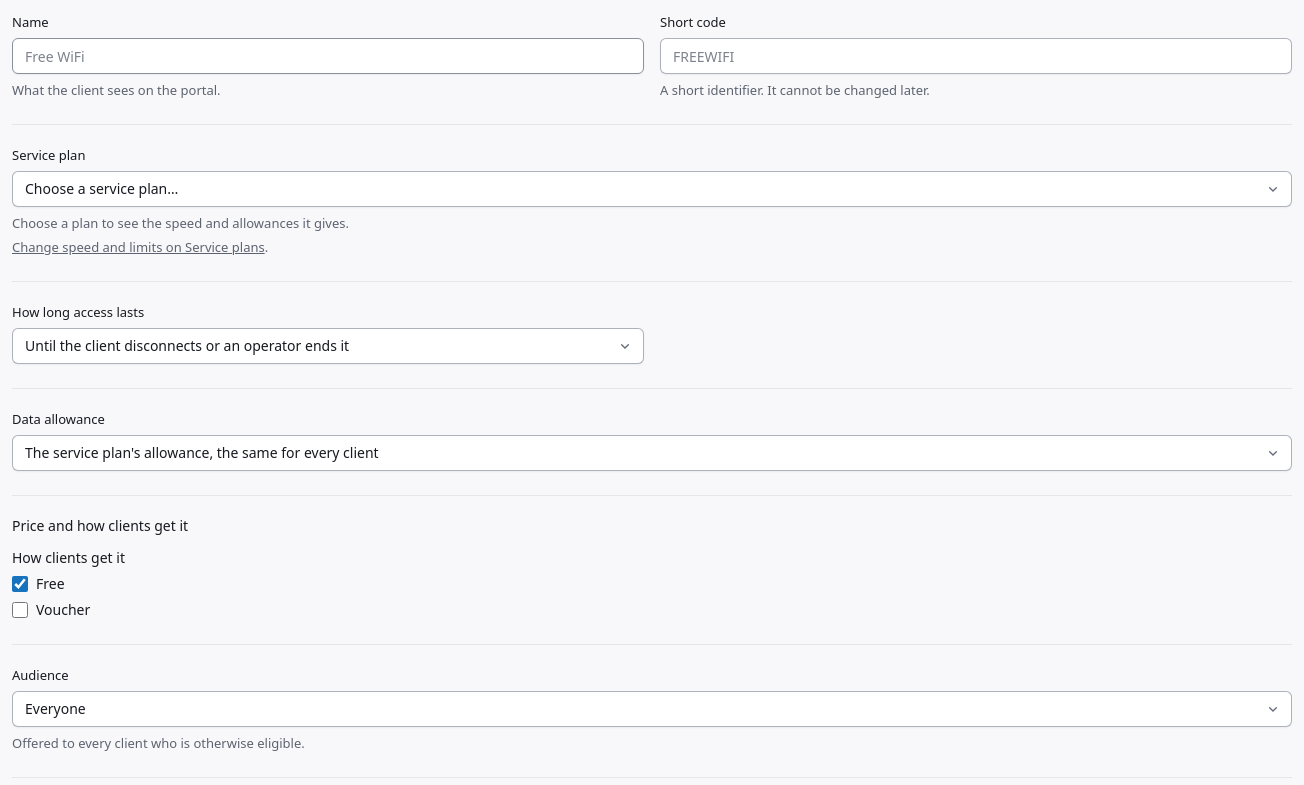
Test: the data-allowance precedence notice › follows the selected service plan immediately
Select "Five GB" in the dropdown with test id "service-plan": (652,189) [12,171,1292,207]
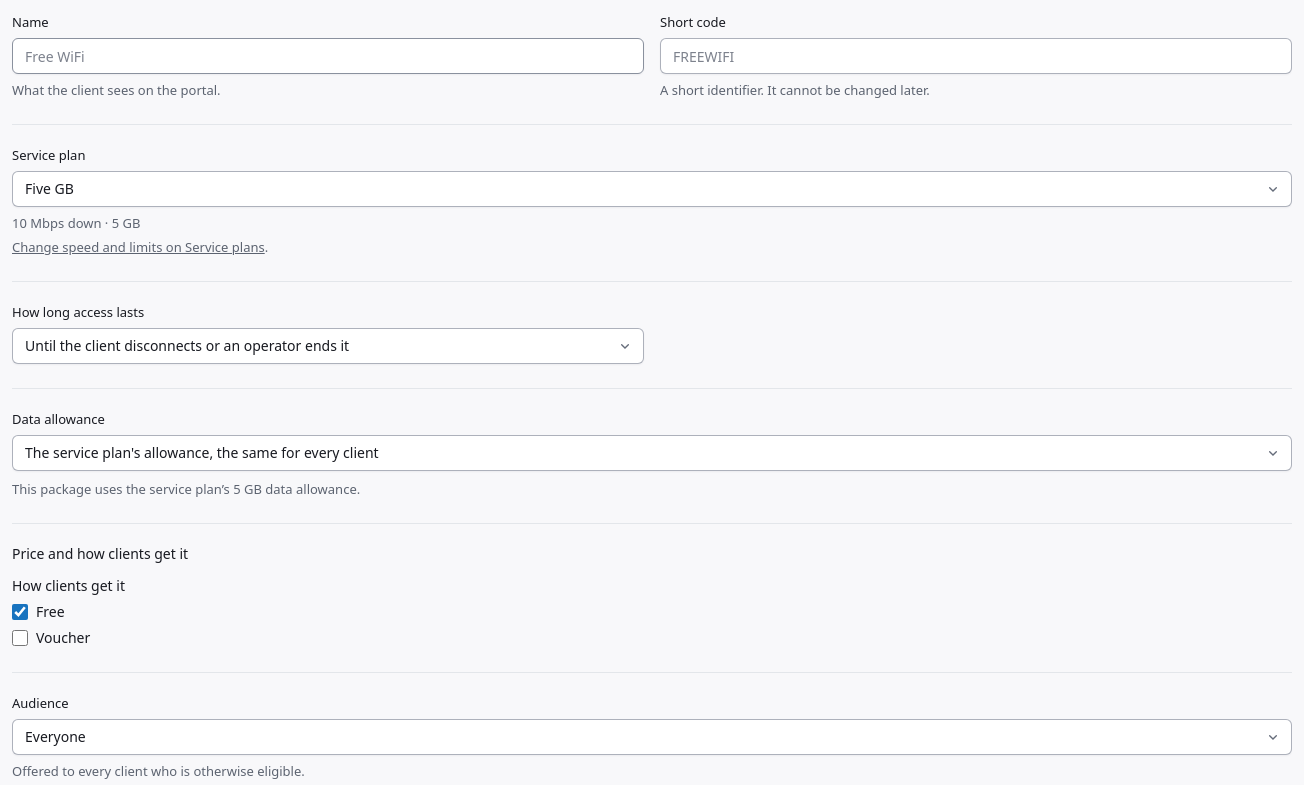
Select "An allowance per night of the stay" in the dropdown with test id "allocation-mode": (652,453) [12,435,1292,471]
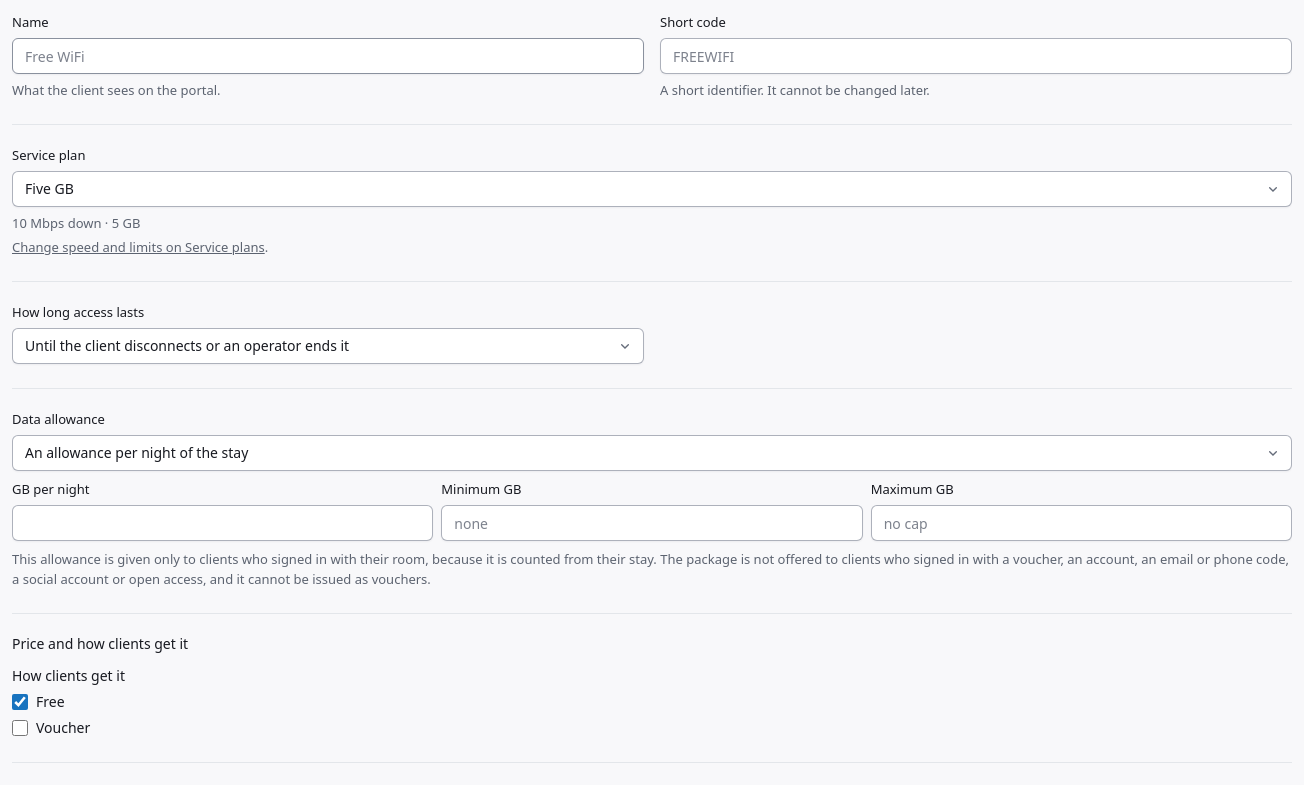
In the number field with test id "gb-per-night": (223,523) [12,505,433,541], type "1"
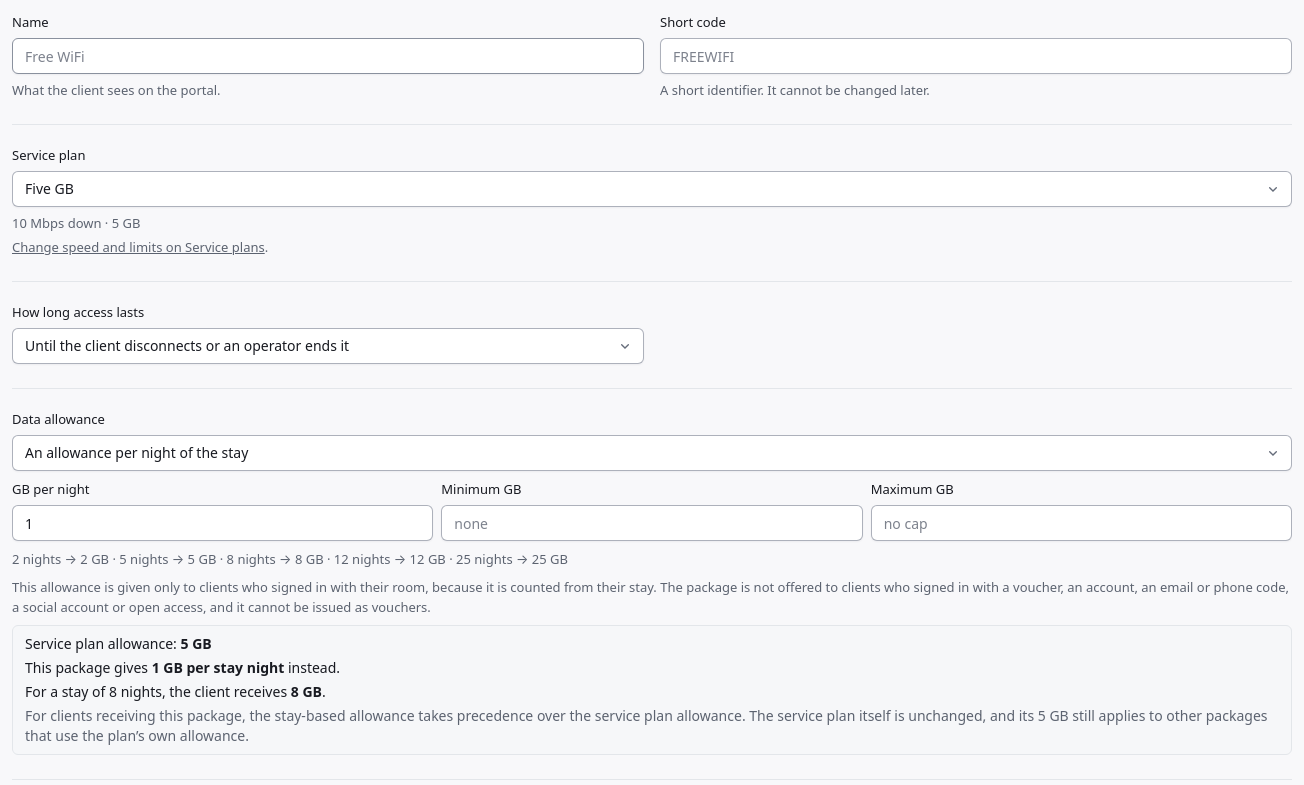
Result: the element with test id "allowance-notice" shows "5 GB" at [12,625,1292,755]
Select "Twenty GB" in the dropdown with test id "service-plan": (652,189) [12,171,1292,207]
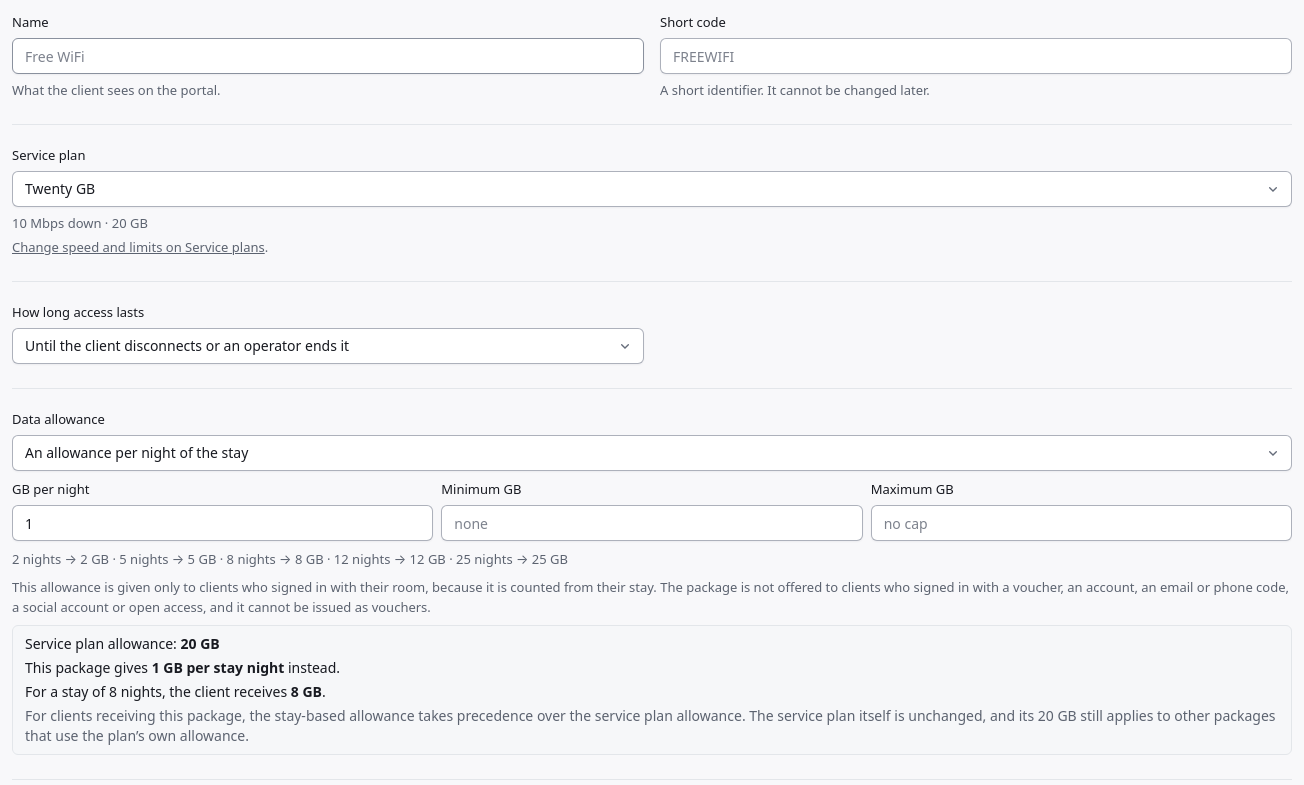
Result: the element with test id "allowance-notice" shows "20 GB" at [12,625,1292,755]
Result: the element with test id "allowance-notice" no longer shows "5 GB"
